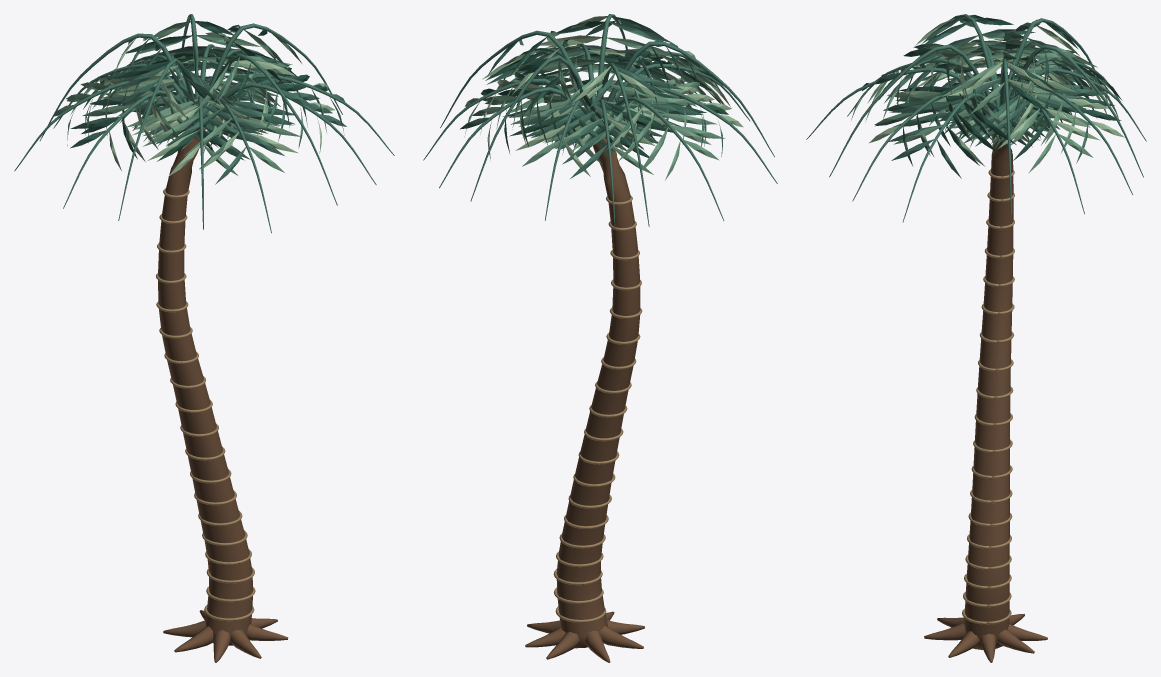
The model's file is sky_palm.glb.
3 views of the same model, side by side, from view 1: azimuth 30°, elevation 25°; view 2: azimuth 150°, elevation 25°; view 3: azimuth 270°, elevation 25° (orthographic). The views are drawn at different scales.
Parts seen in each view (by area): view 1: sky_palm; view 2: sky_palm; view 3: sky_palm.
Boxes of the visible parts, x1,y1,x2,y2 form: sky_palm: (14,14,394,662); sky_palm: (423,14,777,662); sky_palm: (806,14,1146,662).
Bounding box in the file's own units: 4.06 × 7.61 × 3.95.
2 materials, 2 textured.
